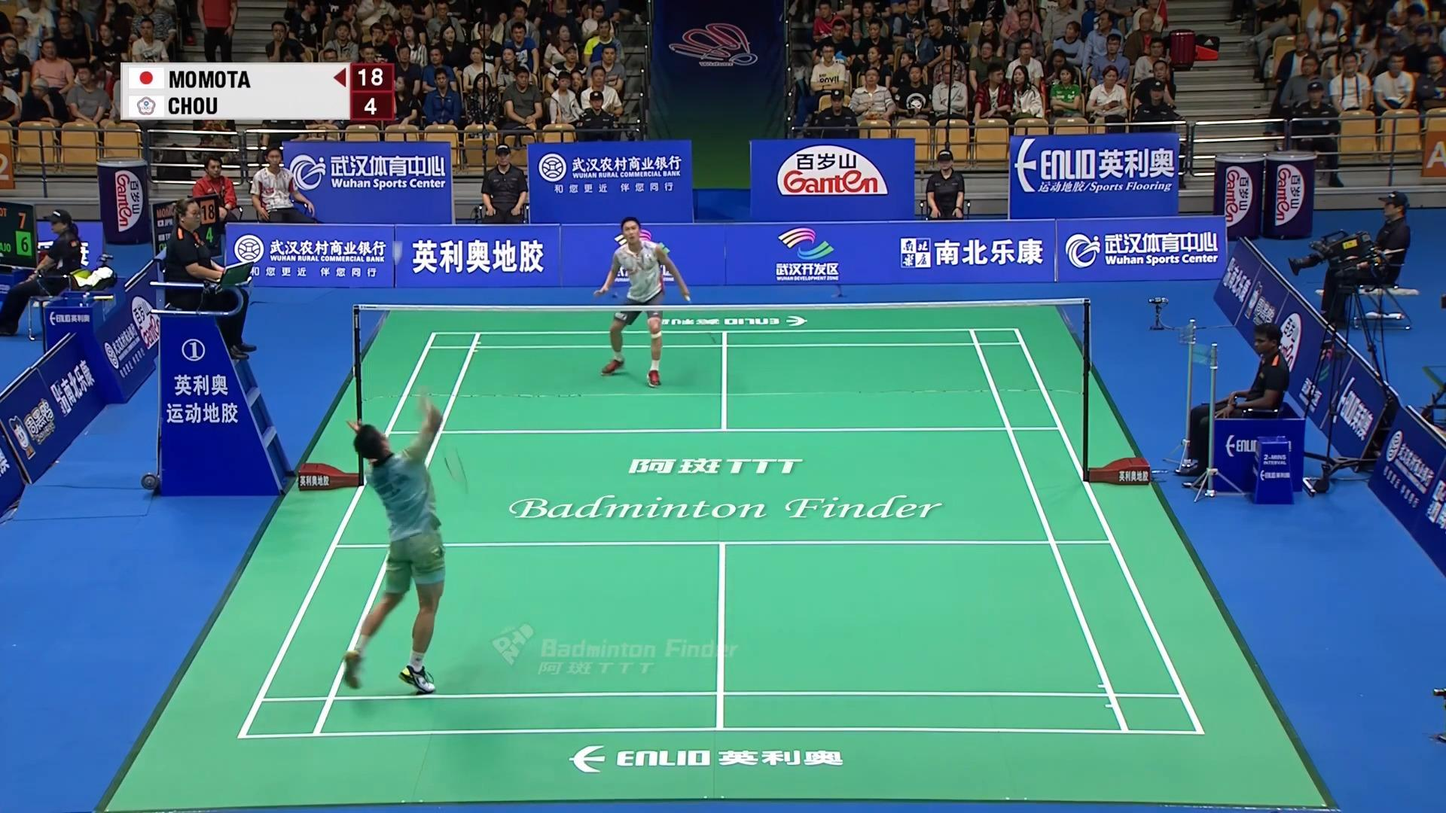shuttlecock: (392, 240, 404, 267)
